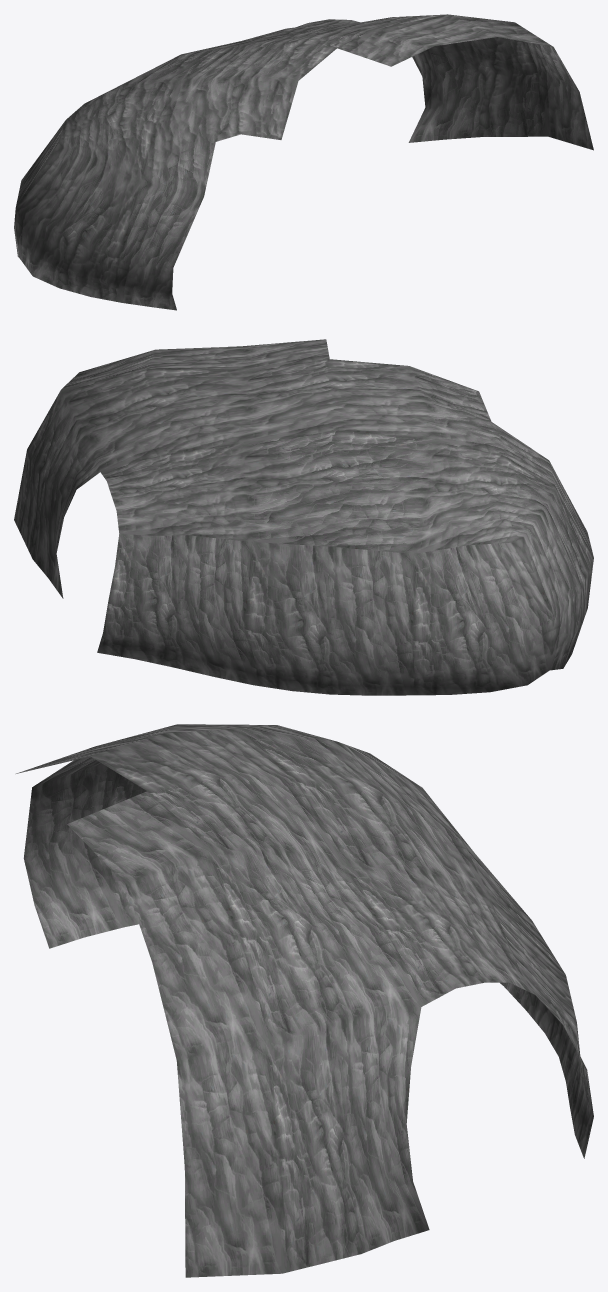
File: SWORDLIGHT20_PS-AREA03-05TRANS_08.fbx
The picture shows the model from 3 angles, top to bottom: view 1: azimuth 30°, elevation 25°; view 2: azimuth 150°, elevation 25°; view 3: azimuth 270°, elevation 25°; orthographic projection. The views are drawn at different scales.
Parts seen in each view (by area): view 1: SWORDLIGHT20_PS-AREA03-05TRANS_08; view 2: SWORDLIGHT20_PS-AREA03-05TRANS_08; view 3: SWORDLIGHT20_PS-AREA03-05TRANS_08.
Part boxes in pixels (x1,y1,x2,y2): SWORDLIGHT20_PS-AREA03-05TRANS_08: [14, 14, 593, 310]; SWORDLIGHT20_PS-AREA03-05TRANS_08: [14, 339, 593, 695]; SWORDLIGHT20_PS-AREA03-05TRANS_08: [16, 724, 593, 1277].
Bounding box in the file's own units: 252528 × 89932 × 150097.
Materials: 1 (1 with a texture image).
